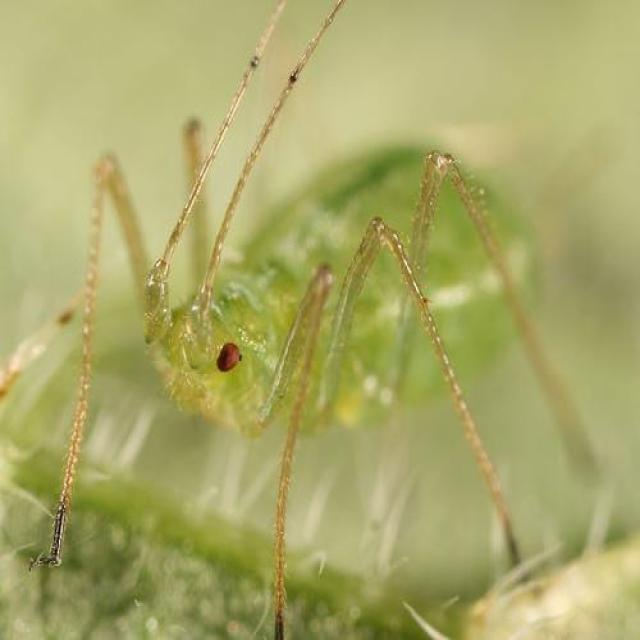Aphids: (42, 104, 530, 588)
